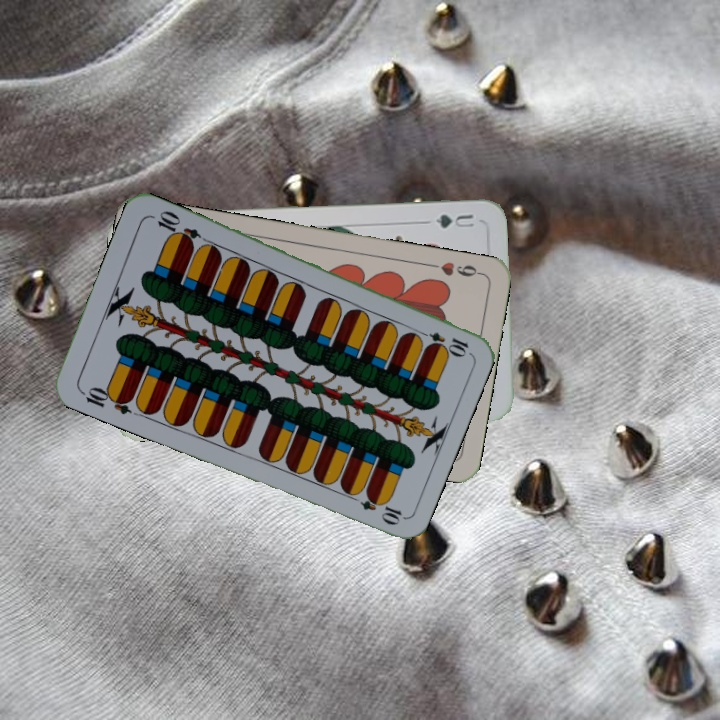E10: (77, 382, 135, 417), (413, 326, 471, 357)
GU: (431, 210, 477, 230)
H9: (426, 257, 485, 279)
